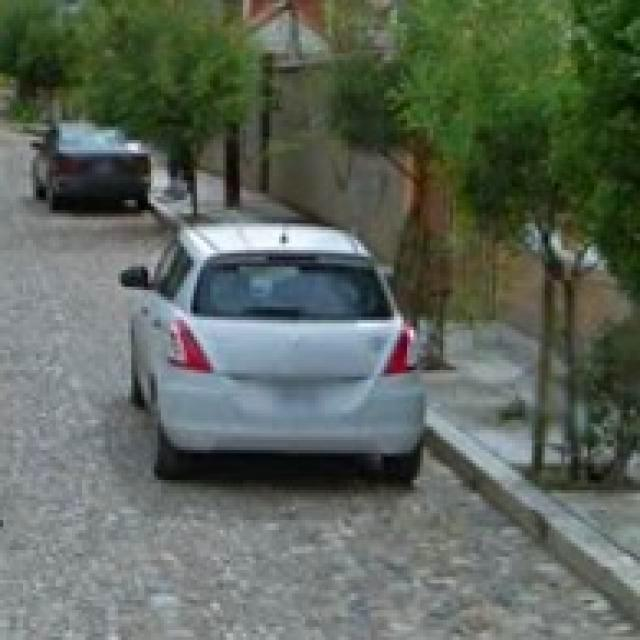Car: (126, 214, 418, 504), (18, 132, 140, 198)
